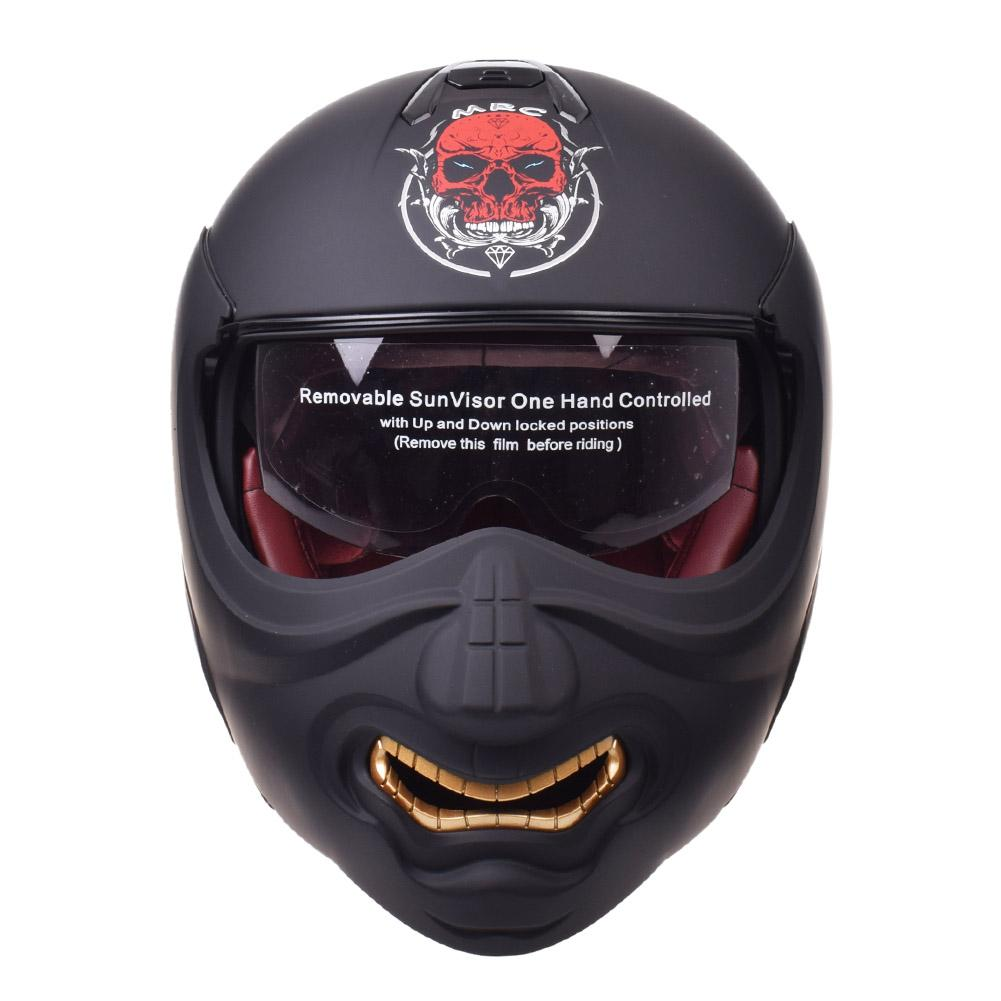with_helmet: (161, 56, 837, 952)
